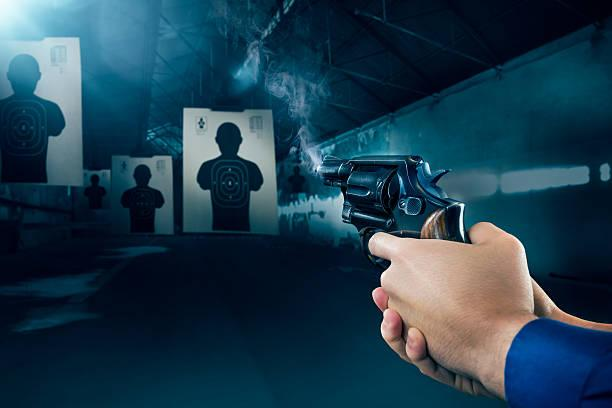weapon: (312, 151, 471, 267)
